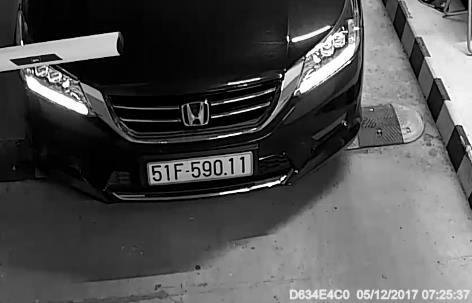License-plate: (137, 151, 260, 192)
